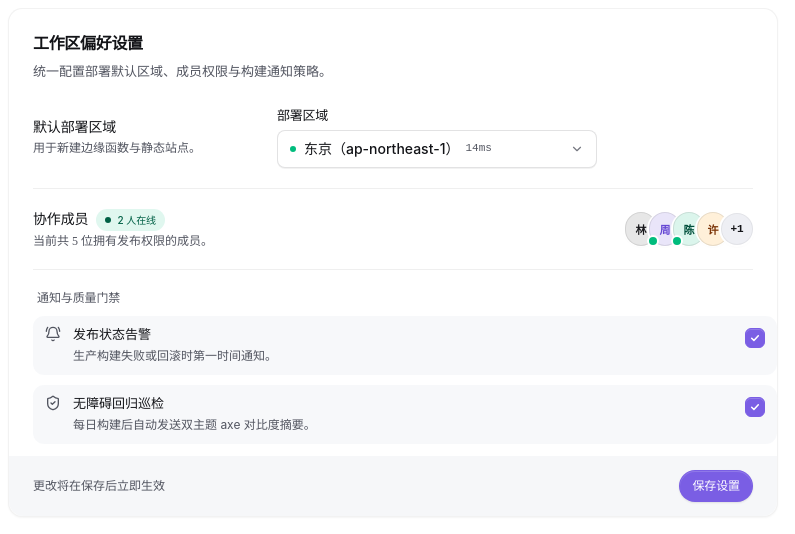
it: SettingsBlock › 调整通知勾选与区域并点击保存触发回调
Click the checkbox named "发布状态告警" in the row of "发布状态告警" at (755, 338), box 745,328 -> 765,348
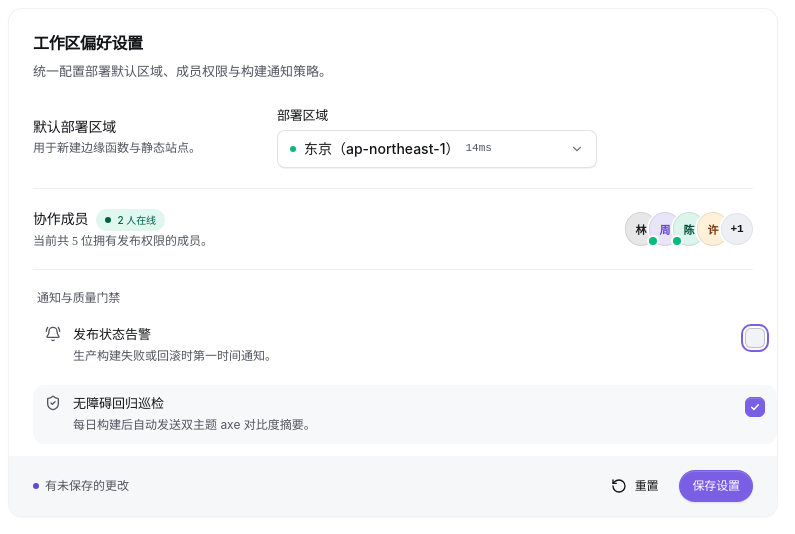
Expected: the text "有未保存的更改" is shown, 45,478 -> 129,494
Click the button "保存设置" at (716, 486), box 680,470 -> 753,502
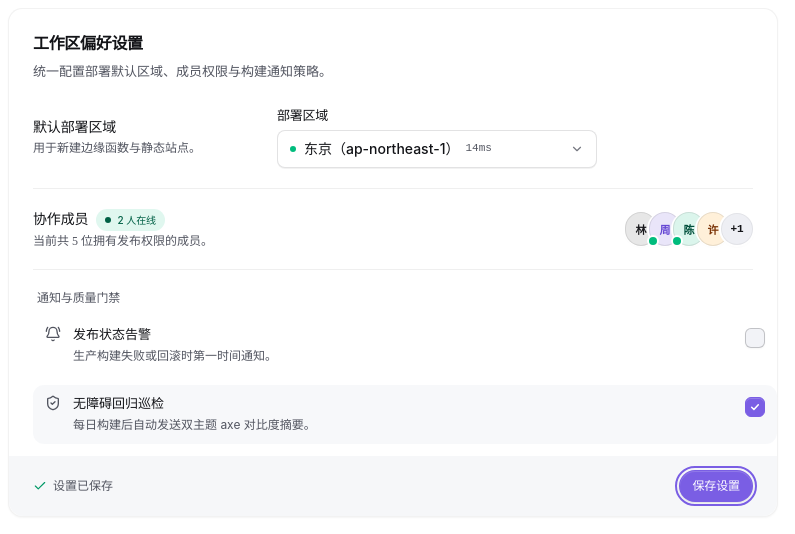
Expected: the text "设置已保存" is shown, 53,478 -> 113,494
